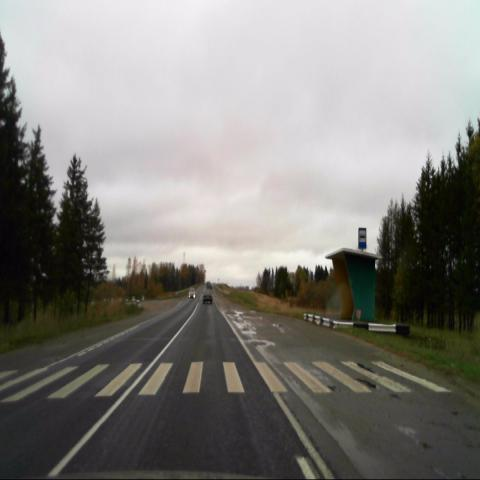5_16: (357, 226, 367, 249)
